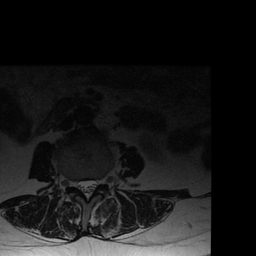CCS_normal: (84, 175, 90, 205)
LFS_stenosis: (98, 174, 104, 189)
LLS_normal: (91, 174, 97, 193)
RFS_stenosis: (69, 175, 77, 192)
RLS_normal: (77, 175, 84, 196)
